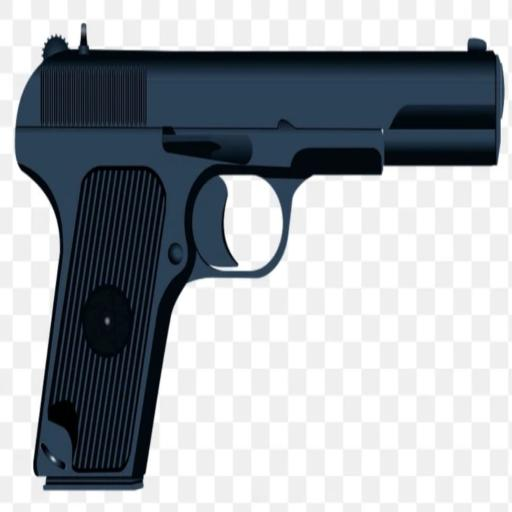Gun: (15, 25, 504, 487)
